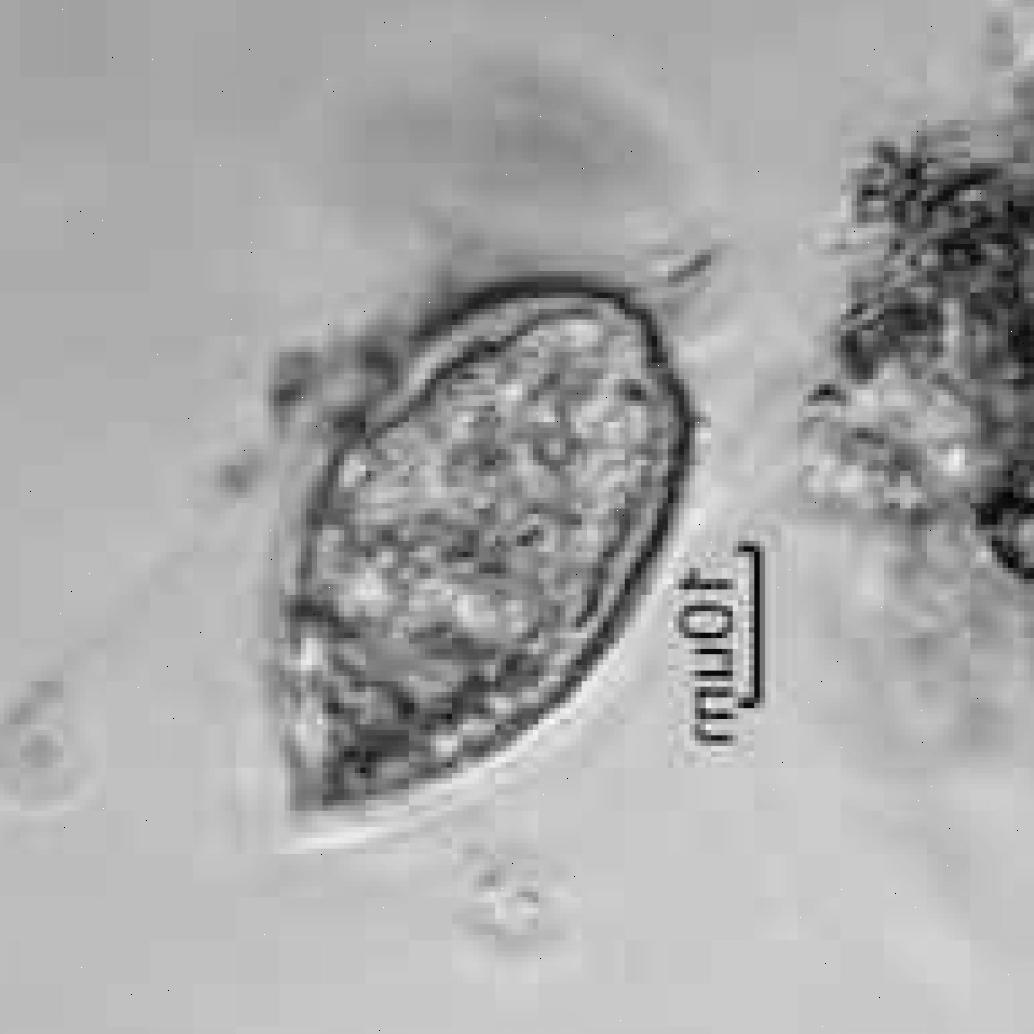prorocentrum_micans: (281, 248, 720, 809)
